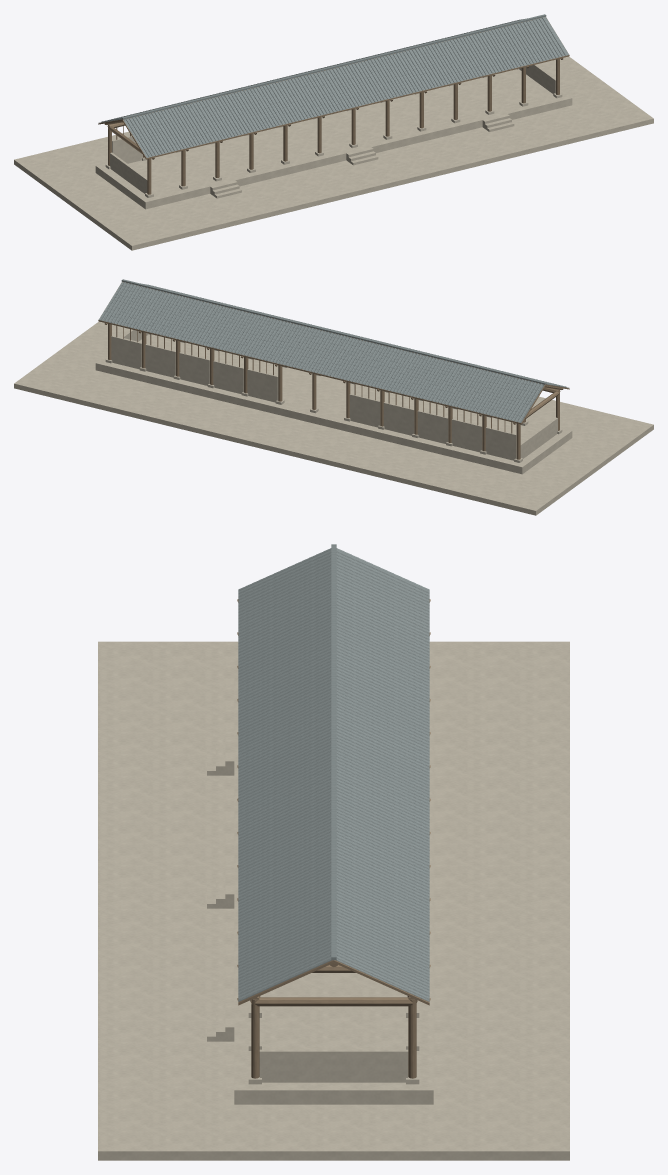
Rendered from hall-A.gltf.
3 views of the same model, one above another, from view 1: azimuth 30°, elevation 25°; view 2: azimuth 150°, elevation 25°; view 3: azimuth 270°, elevation 25° (orthographic). The views are drawn at different scales.
Parts seen in each view (by area): view 1: A_presentation_ground, A_tile_shells, A_platform, A_ridge_cap_C, A_roof_board, A_gable_lowwall, A_rear_infill, A_gable_lowwall.001; view 2: A_presentation_ground, A_tile_shells, A_platform, A_ridge_cap_C, A_roof_board.001, A_rear_infill.005, A_rear_infill.002, A_rear_infill, A_rear_infill.001, A_rear_infill.004, A_rear_infill.003, A_rear_infill.009 (+4 smaller); view 3: A_presentation_ground, A_tile_shells, A_platform, A_gable_lowwall.001, A_ridge_cap_C, A_cross_tie.012.
Boxes of the visible parts, bbox=[...] form: A_presentation_ground: bbox=[14, 56, 653, 250]; A_tile_shells: bbox=[99, 17, 568, 157]; A_platform: bbox=[95, 69, 572, 209]; A_ridge_cap_C: bbox=[121, 14, 546, 119]; A_roof_board: bbox=[122, 17, 569, 159]; A_gable_lowwall: bbox=[110, 152, 147, 193]; A_rear_infill: bbox=[112, 135, 142, 163]; A_gable_lowwall.001: bbox=[519, 64, 555, 93]; A_presentation_ground: bbox=[14, 321, 653, 515]; A_tile_shells: bbox=[99, 282, 568, 422]; A_platform: bbox=[95, 334, 572, 474]; A_ridge_cap_C: bbox=[121, 279, 546, 384]; A_roof_board.001: bbox=[98, 282, 545, 424]; A_rear_infill.005: bbox=[247, 368, 278, 402]; A_rear_infill.002: bbox=[417, 410, 448, 443]; A_rear_infill: bbox=[485, 427, 516, 460]; A_rear_infill.001: bbox=[451, 418, 482, 452]; A_rear_infill.004: bbox=[349, 393, 380, 427]; A_rear_infill.003: bbox=[383, 402, 414, 435]; A_rear_infill.009: bbox=[111, 335, 141, 369]; A_presentation_ground: bbox=[98, 641, 569, 1160]; A_tile_shells: bbox=[238, 548, 429, 1001]; A_platform: bbox=[234, 674, 433, 1104]; A_gable_lowwall.001: bbox=[259, 1049, 408, 1082]; A_ridge_cap_C: bbox=[331, 544, 336, 960]; A_cross_tie.012: bbox=[255, 997, 412, 1006].
Size of the model in its own units: 46 by 6.53 by 18.
3 materials, 3 textured.
